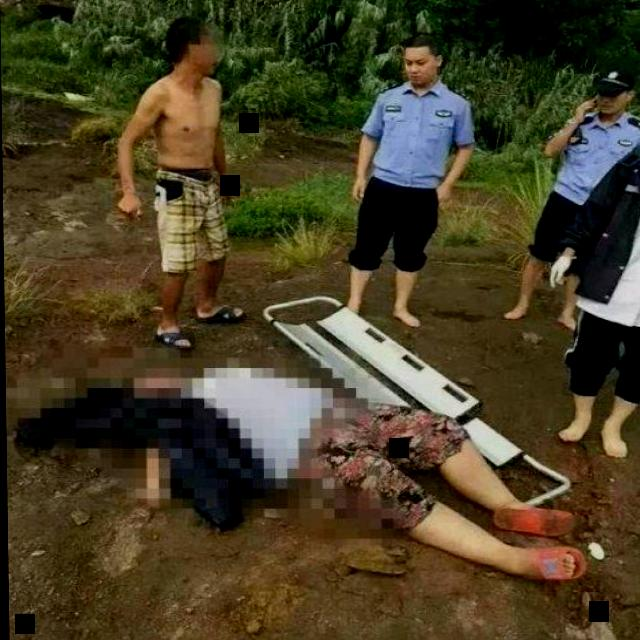Fall-Detected: (106, 334, 617, 582)
